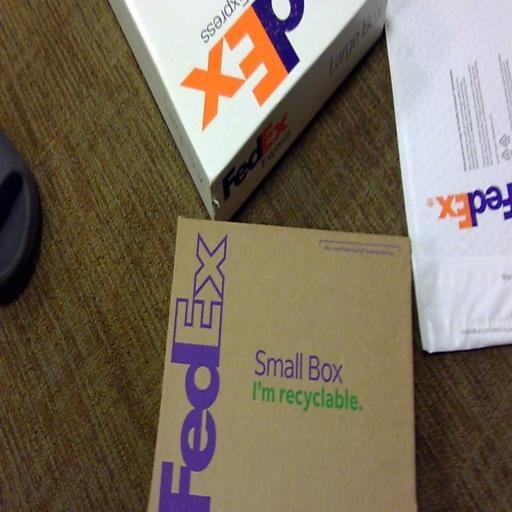Amazon: (161, 212, 403, 512), (121, 0, 392, 203), (409, 0, 512, 362)
